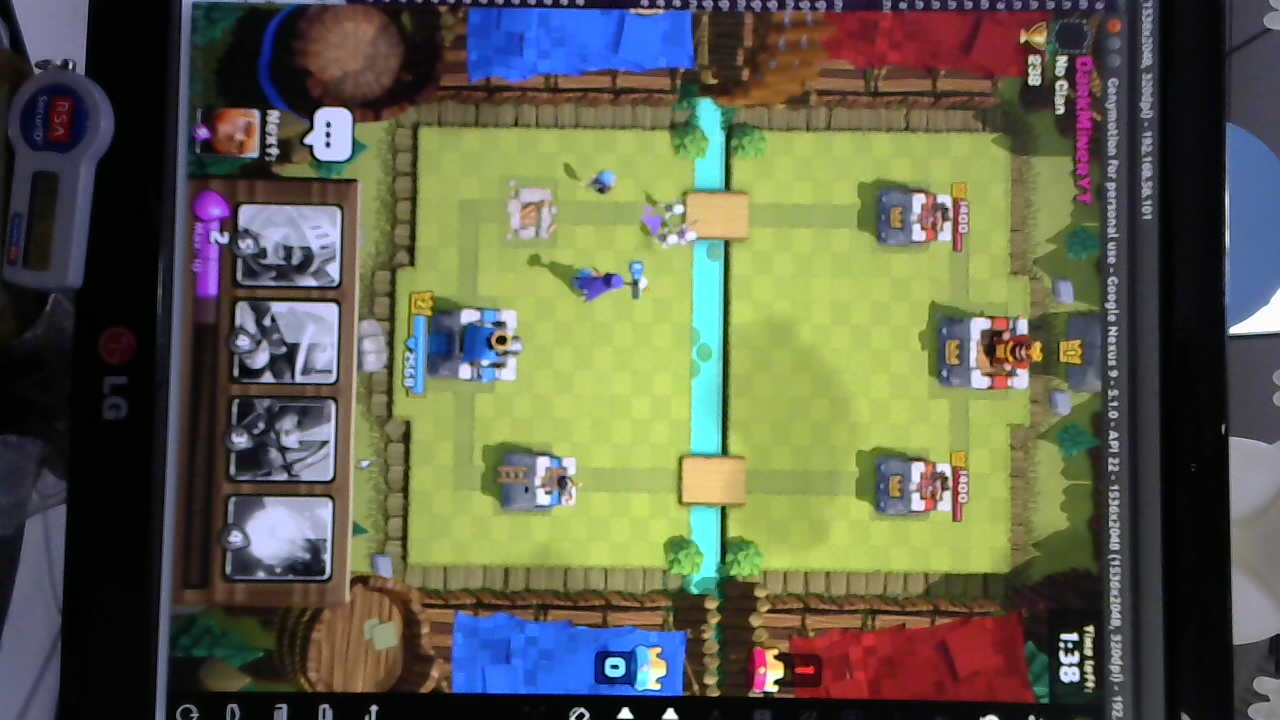arena: (501, 451, 583, 513)
bomb: (584, 163, 617, 196)
darena: (506, 190, 555, 243)
earena: (870, 455, 953, 518), (874, 189, 953, 248)
eking: (937, 313, 1041, 395)
king: (426, 305, 518, 384)
skeleton: (653, 200, 703, 250)
witch: (571, 261, 633, 303)
